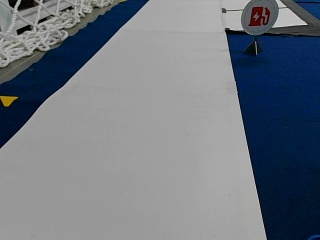battery: (240, 0, 279, 34)
